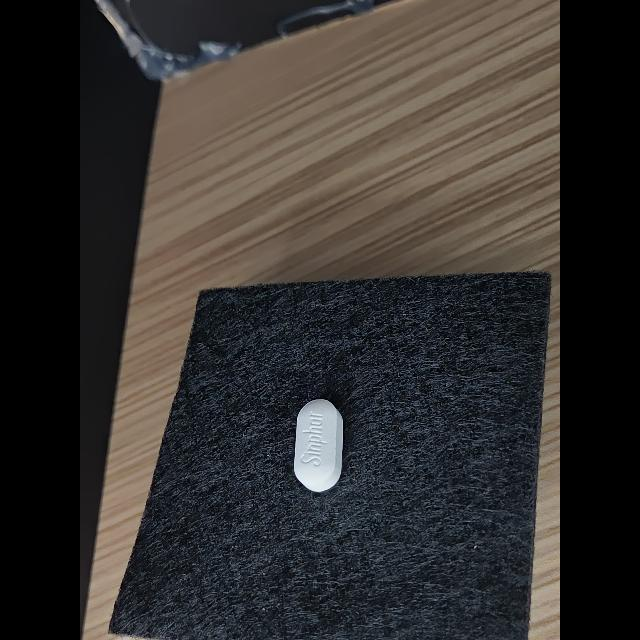Intact Pill: (294, 399, 343, 492)
